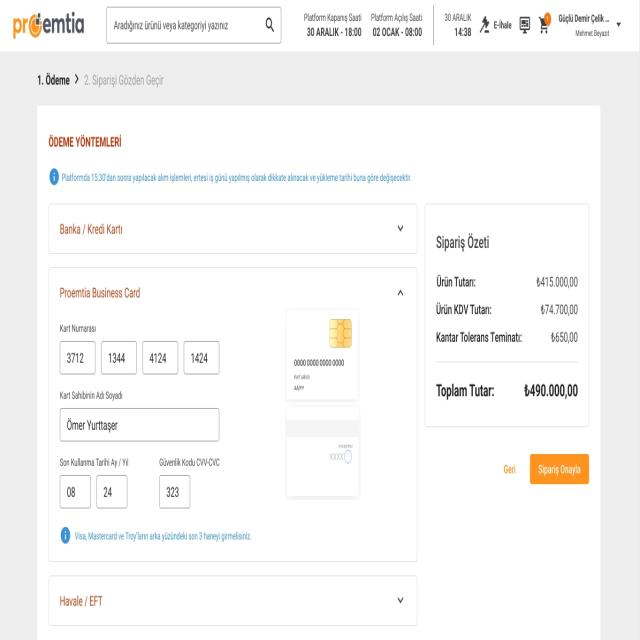QLabel: (61, 171, 413, 185), (74, 530, 252, 545), (46, 128, 124, 152), (57, 282, 142, 304), (435, 329, 523, 349), (432, 230, 492, 255), (522, 380, 580, 403), (435, 382, 496, 402), (434, 300, 493, 320), (58, 454, 130, 470), (58, 221, 123, 238), (58, 389, 125, 403), (158, 456, 221, 470), (433, 272, 477, 292), (557, 12, 612, 26), (534, 274, 580, 290), (302, 11, 362, 23), (58, 594, 103, 610), (538, 301, 580, 318), (534, 463, 584, 477), (305, 26, 362, 38), (59, 318, 97, 335), (370, 12, 423, 24), (372, 27, 422, 38), (550, 330, 578, 345), (574, 28, 611, 39), (442, 10, 472, 23), (502, 460, 519, 478), (493, 18, 513, 32), (452, 26, 472, 38)
VAppBar: (0, 0, 640, 52)
VBadge: (537, 12, 553, 38)
VBreadcrumbs: (32, 70, 166, 90)
VBtn: (530, 454, 590, 485), (493, 452, 527, 484)
VCard: (37, 103, 600, 640), (424, 202, 590, 428)
VDivider: (432, 3, 435, 46)
VExpansionPanels: (48, 266, 418, 563), (48, 574, 418, 628), (48, 202, 418, 255)
VIcon: (478, 15, 491, 38), (518, 14, 532, 35), (47, 167, 60, 187), (59, 525, 71, 546), (395, 286, 406, 300), (395, 594, 405, 606), (396, 222, 405, 234), (615, 18, 622, 32)
VImg: (285, 304, 359, 500), (9, 11, 86, 42)
VTextField: (105, 5, 283, 45), (59, 407, 220, 442), (59, 340, 96, 376), (183, 340, 220, 376), (101, 340, 137, 376), (142, 340, 178, 376), (96, 474, 128, 510), (159, 474, 191, 510), (59, 475, 91, 510)
